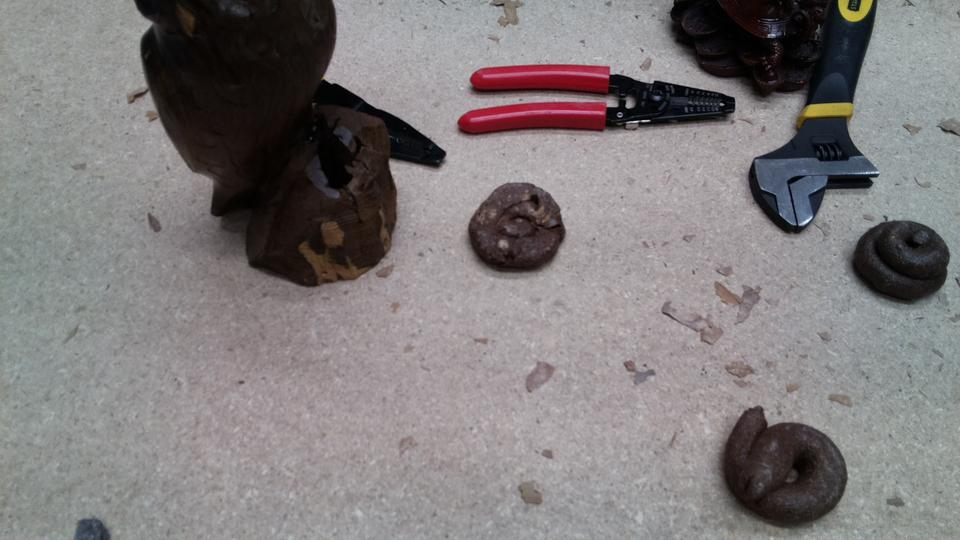poop: (717, 403, 855, 532), (467, 179, 570, 276), (847, 218, 955, 307)
